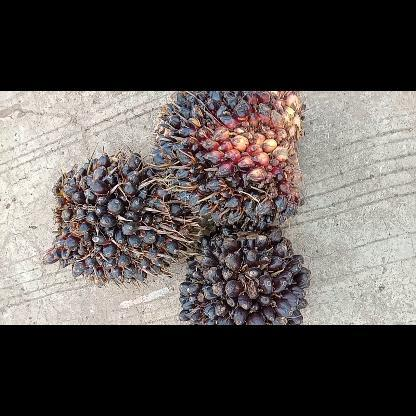TBS mentah: (145, 91, 317, 230), (36, 150, 198, 288), (176, 224, 314, 324)
